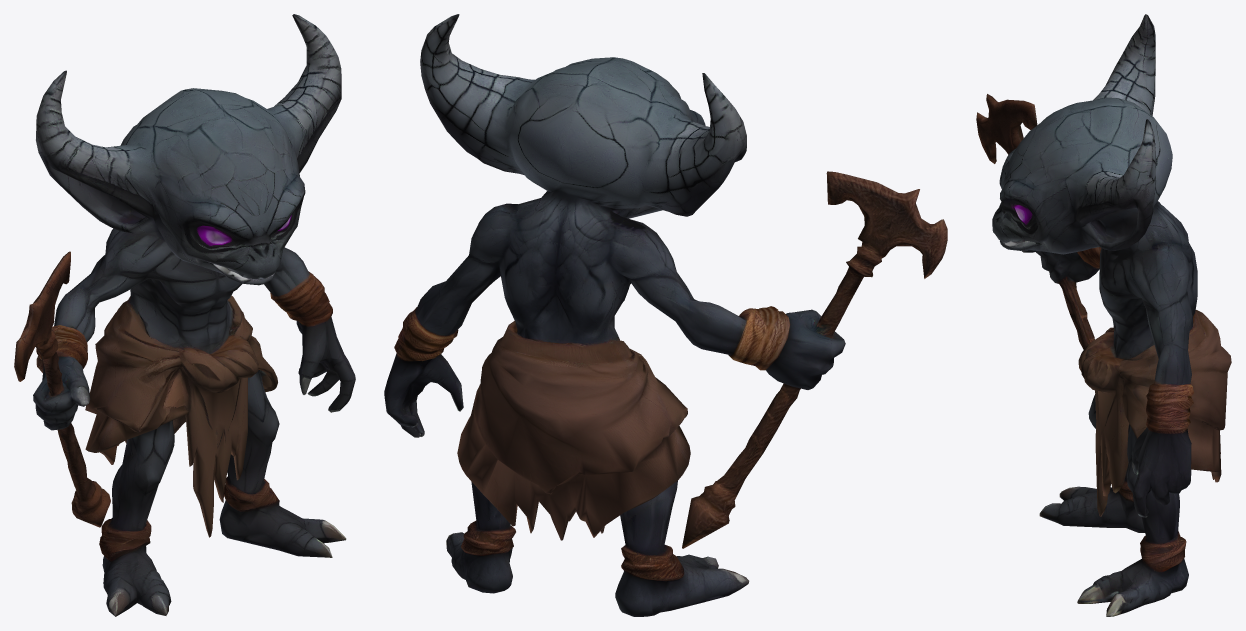
The model's file is void_spawn.glb.
3 views of the same model, side by side, from view 1: azimuth 30°, elevation 25°; view 2: azimuth 150°, elevation 25°; view 3: azimuth 270°, elevation 25° (orthographic). The views are drawn at different scales.
Bounding box in the file's own units: 1.64 × 1.91 × 0.9111.
1 material, 1 textured.
